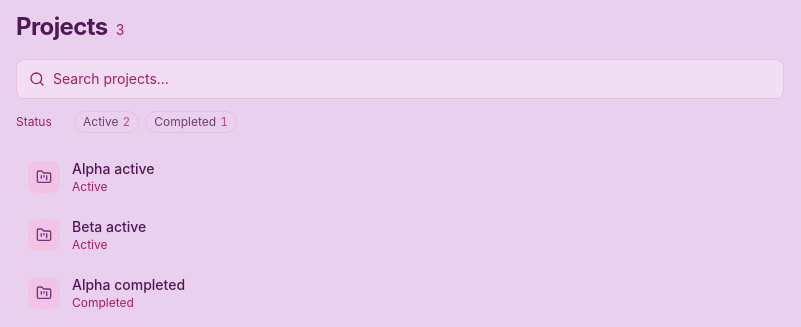
Scenario: EntityCollection › composes a status facet with the text query
Expected: the text "Alpha active" is shown, [72,160,154,177]
Type "alpha" into the field labelled "Search projects…" at (412, 79), box [53,69,771,89]
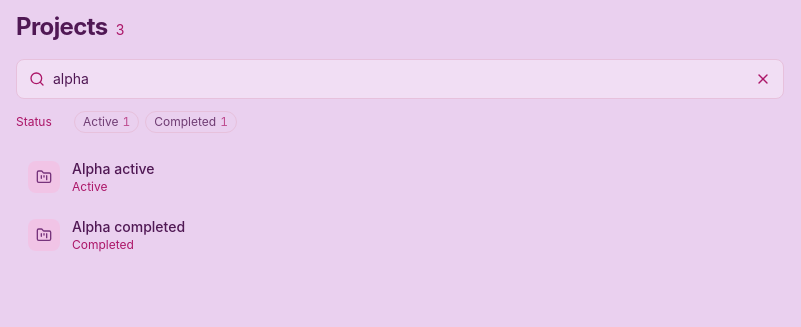
Expected: the text "Alpha active" is shown, [72,160,154,177]
Result: the button "Beta active" is gone
Click the button "Active 1" at (107, 122), box [74,111,139,133]
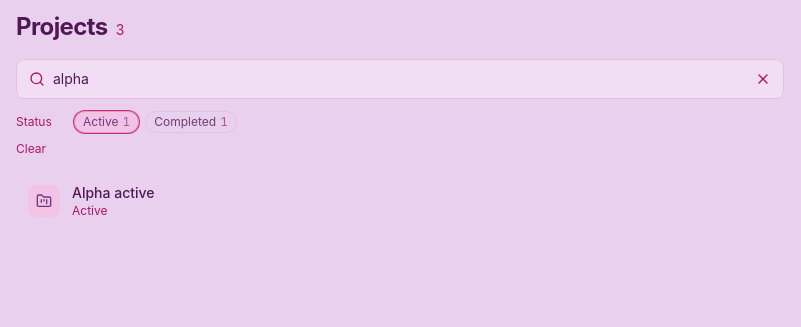
Expected: the text "Alpha active" is shown, [72,184,154,201]
Result: the button "Alpha completed" is gone
